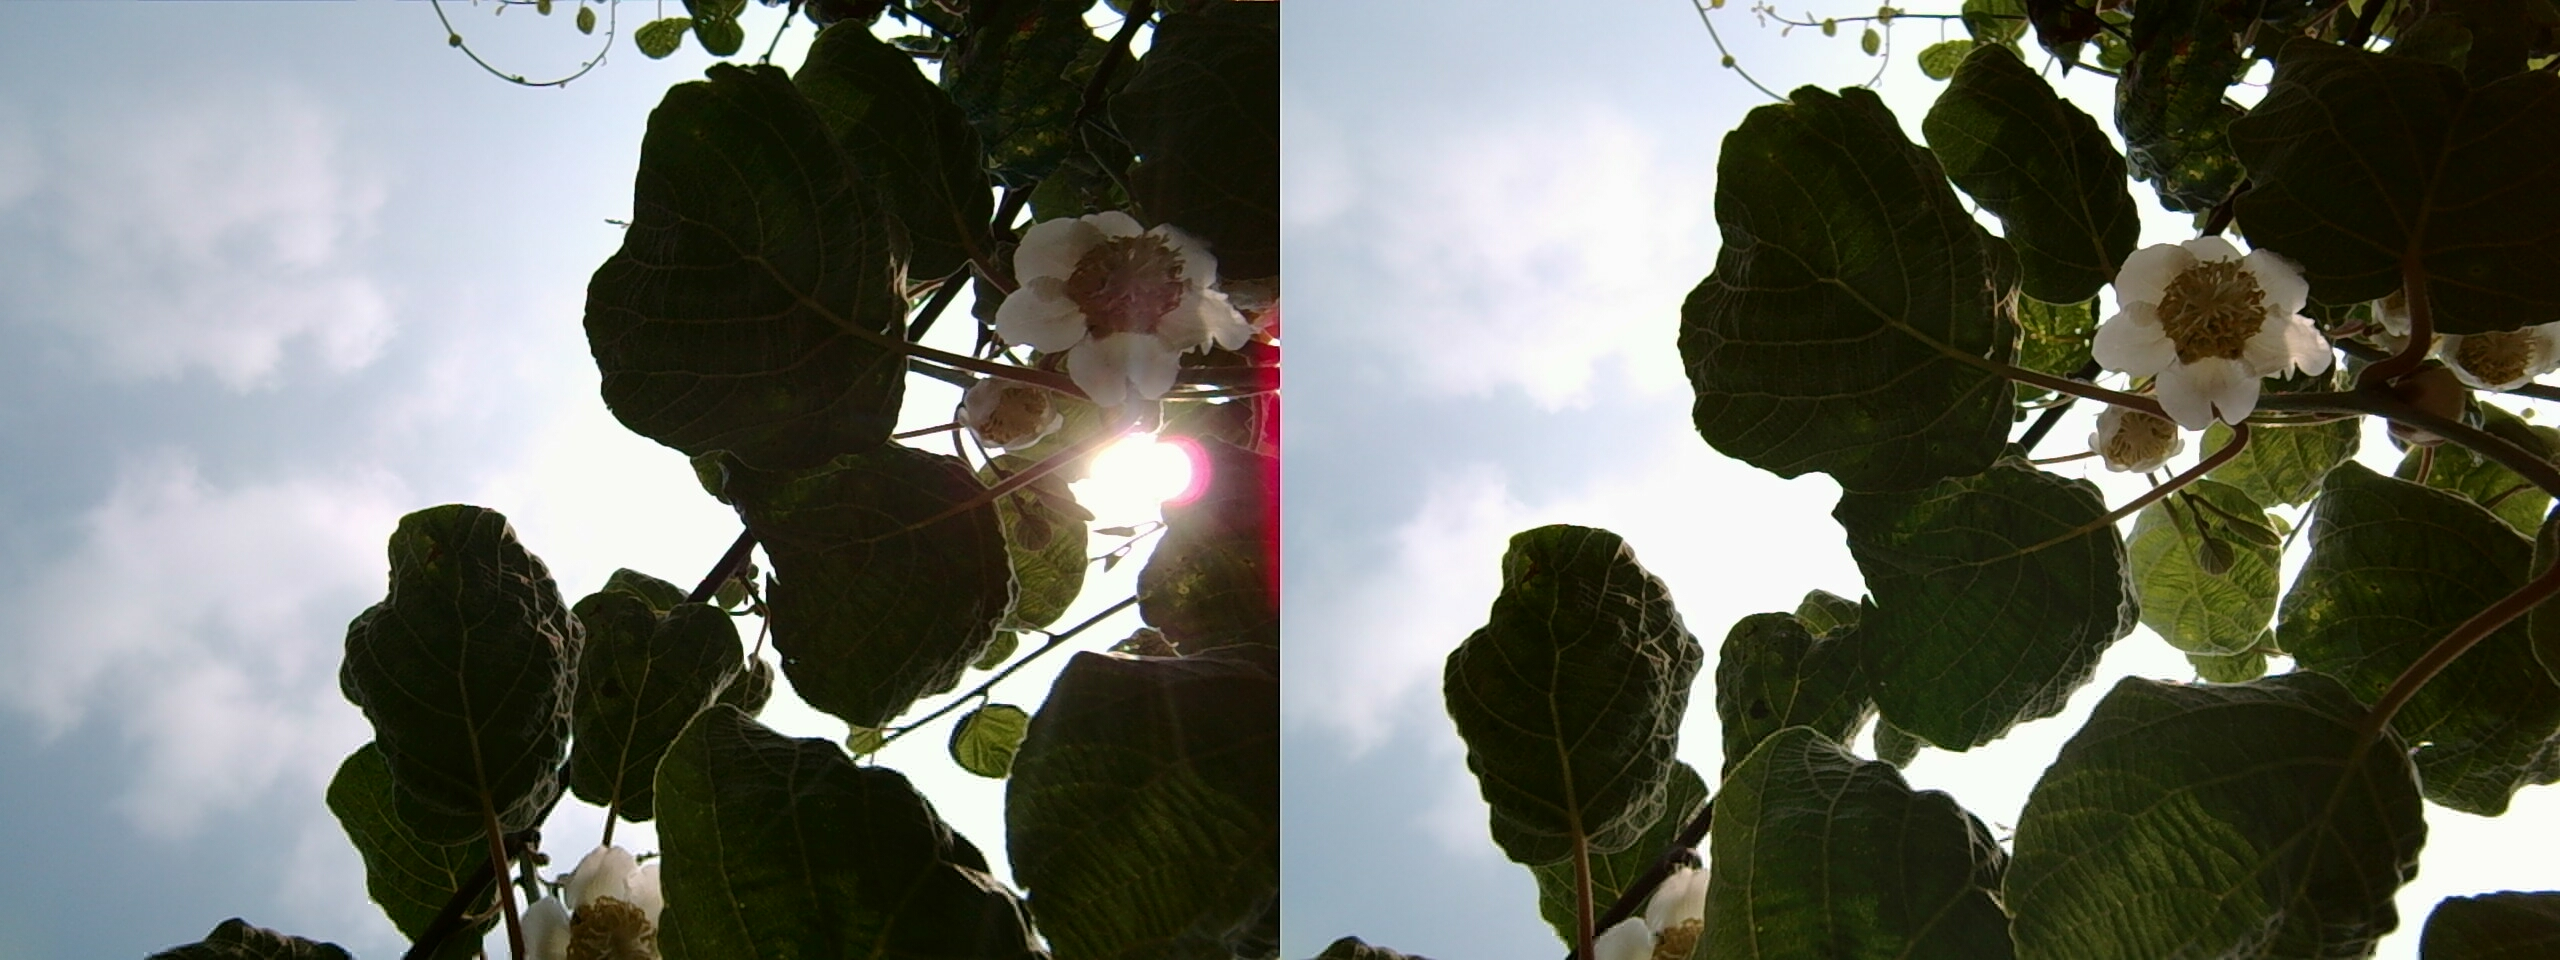flower: (1002, 199, 1247, 407), (2091, 219, 2331, 424)
